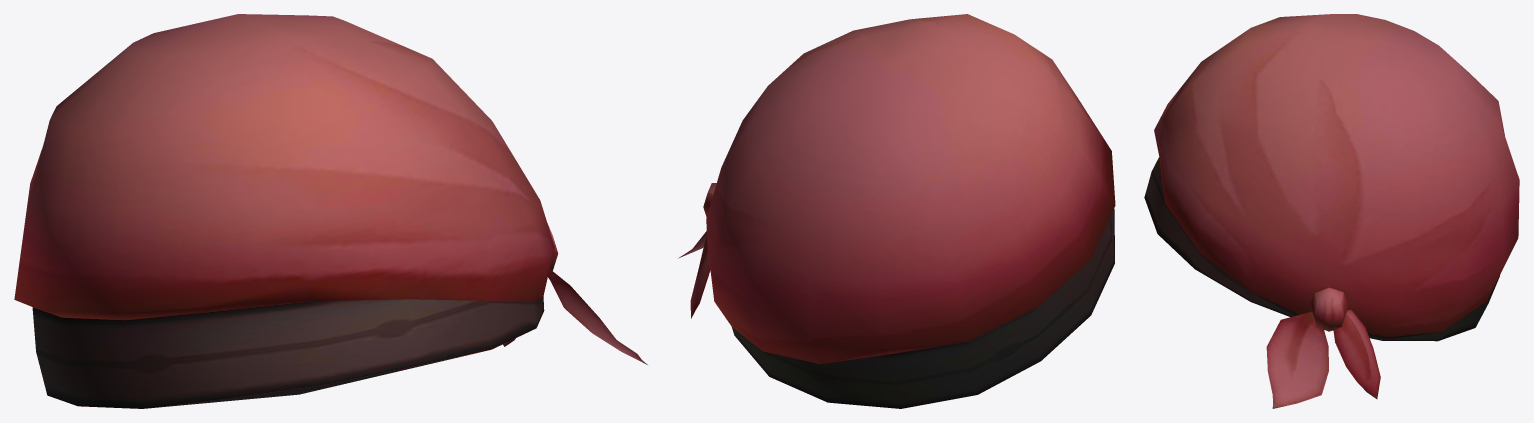
The model's file is helm0075.fbx.
3 views of the same model, side by side, from view 1: azimuth 30°, elevation 25°; view 2: azimuth 150°, elevation 25°; view 3: azimuth 270°, elevation 25° (orthographic). The views are drawn at different scales.
Visible parts, largest first — view 1: helm0075_m; view 2: helm0075_m; view 3: helm0075_m.
Boxes of the visible parts, x1=… form: helm0075_m: x1=14, y1=14, x2=647, y2=408; helm0075_m: x1=678, y1=14, x2=1115, y2=408; helm0075_m: x1=1144, y1=14, x2=1519, y2=408.
Size of the model in its own units: 0.4618 by 0.3233 by 0.3905.
